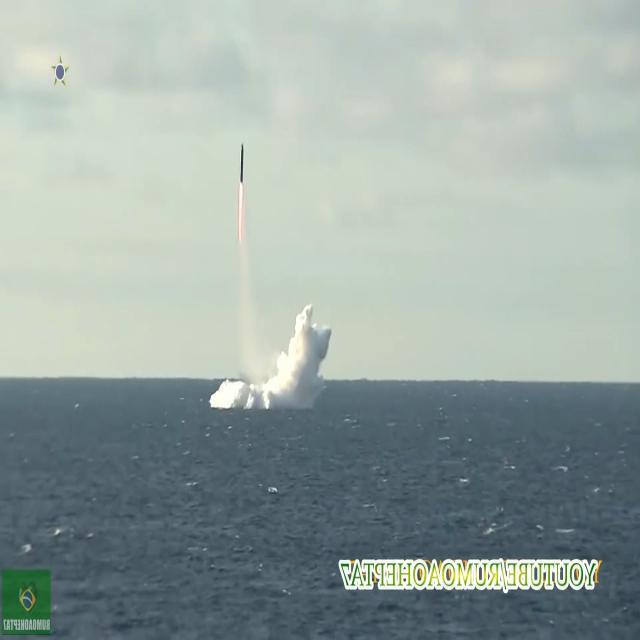missile: (236, 143, 248, 184)
